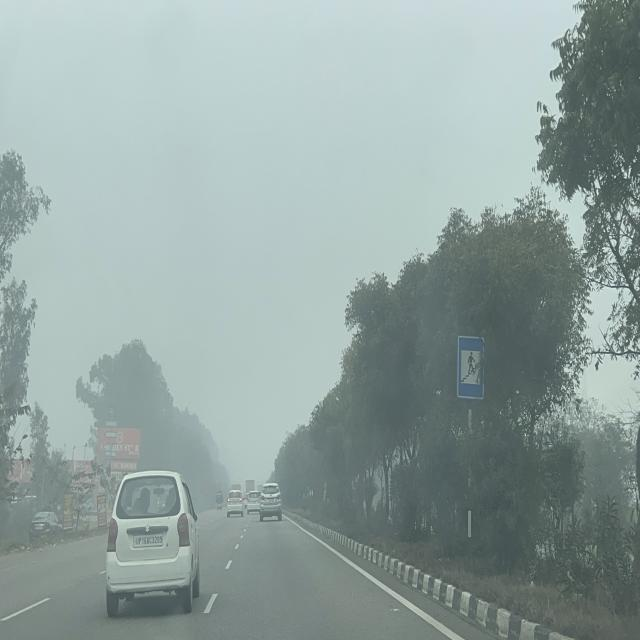INFORMATION: (457, 336, 486, 400)
